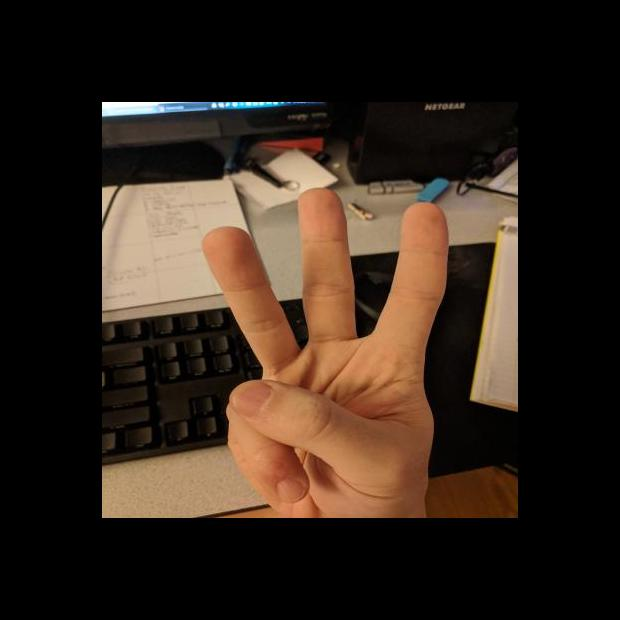V: (198, 184, 455, 518)
